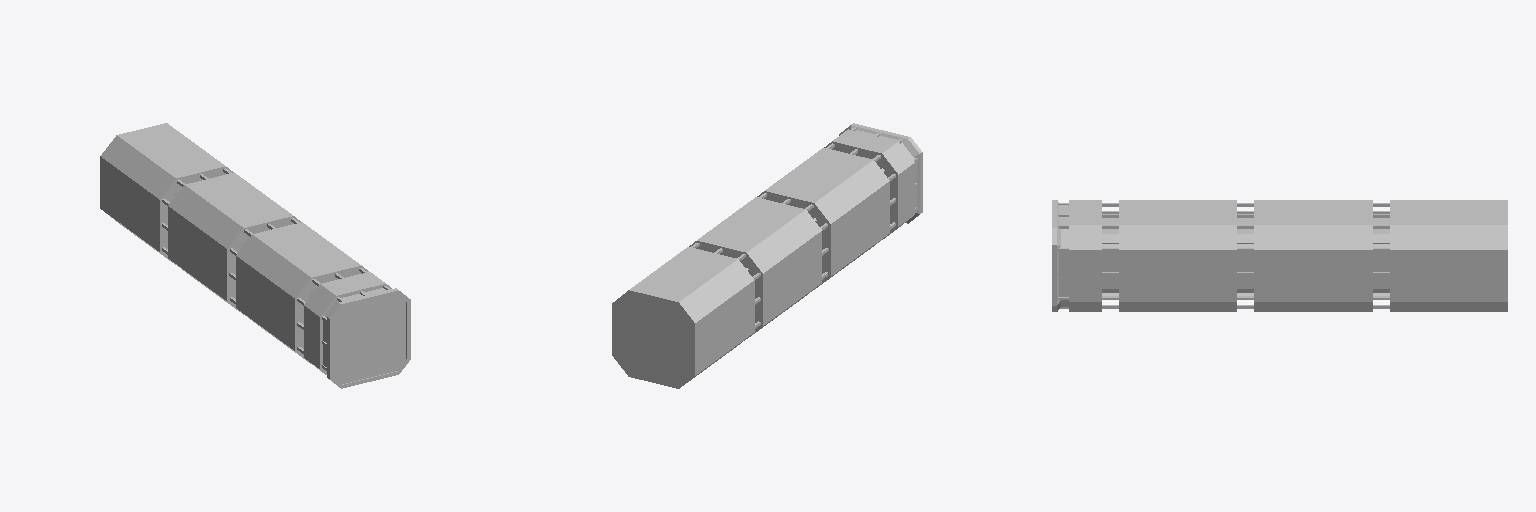
The model's file is PlayBuilding_10.obj.
The picture shows the model from 3 angles: view 1: azimuth 30°, elevation 25°; view 2: azimuth 150°, elevation 25°; view 3: azimuth 270°, elevation 25°; orthographic projection.
Parts seen in each view (by area): view 1: 立方体.011; view 2: 立方体.011; view 3: 立方体.011.
Part boxes in pixels (x1,y1,x2,y2): 立方体.011: (100,123,410,388); 立方体.011: (612,123,922,388); 立方体.011: (1052,200,1507,311).
Size of the model in its own units: 39.43 by 39.43 by 188.